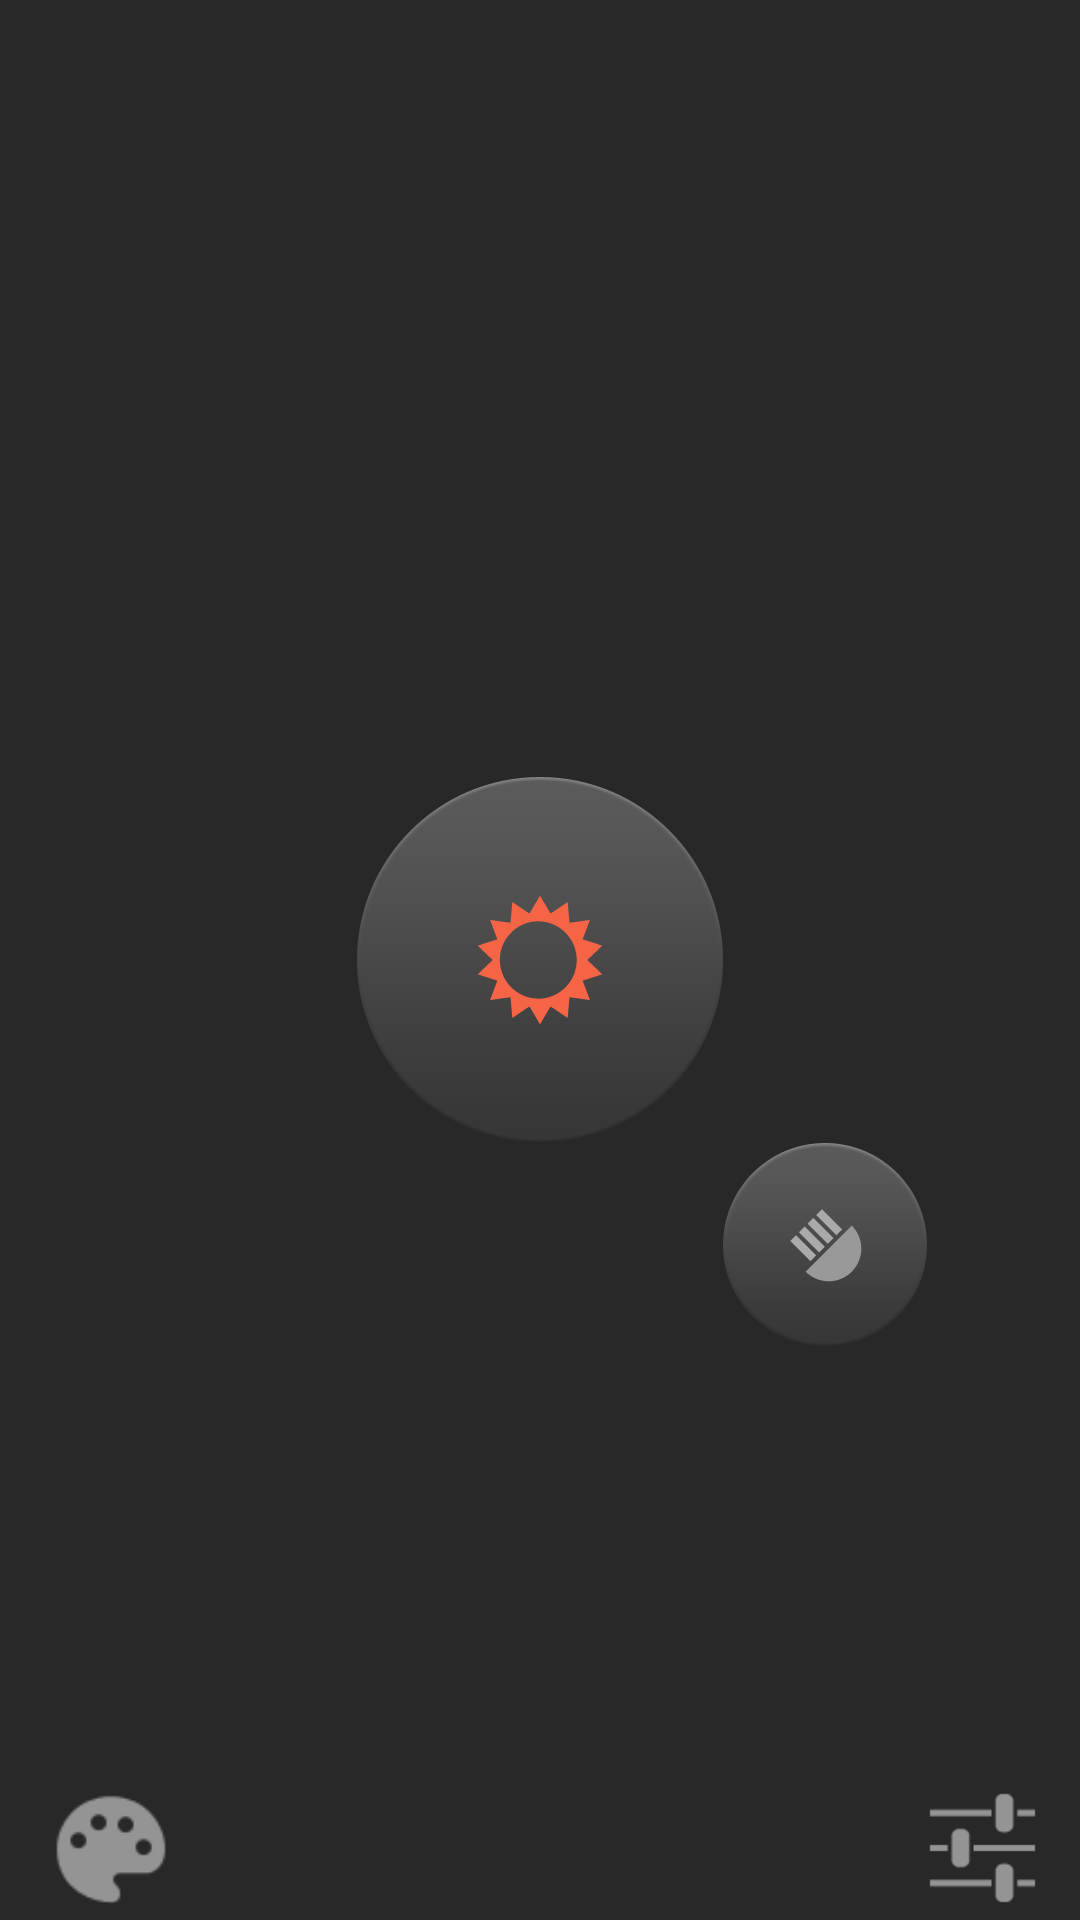

Named icons in this screenshot (1080px x 1920px) and their bounding boxes, box=[x1, y1, x2, y2]:
flash: box=[723, 1143, 927, 1282]
settings: box=[930, 1794, 1035, 1902]
